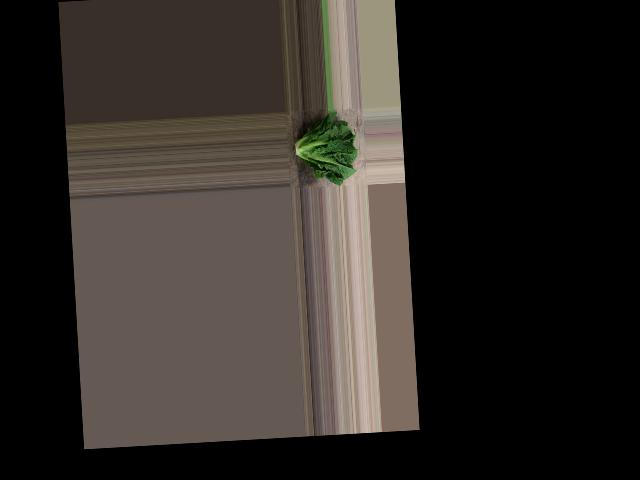lettuce: (287, 110, 361, 185)
